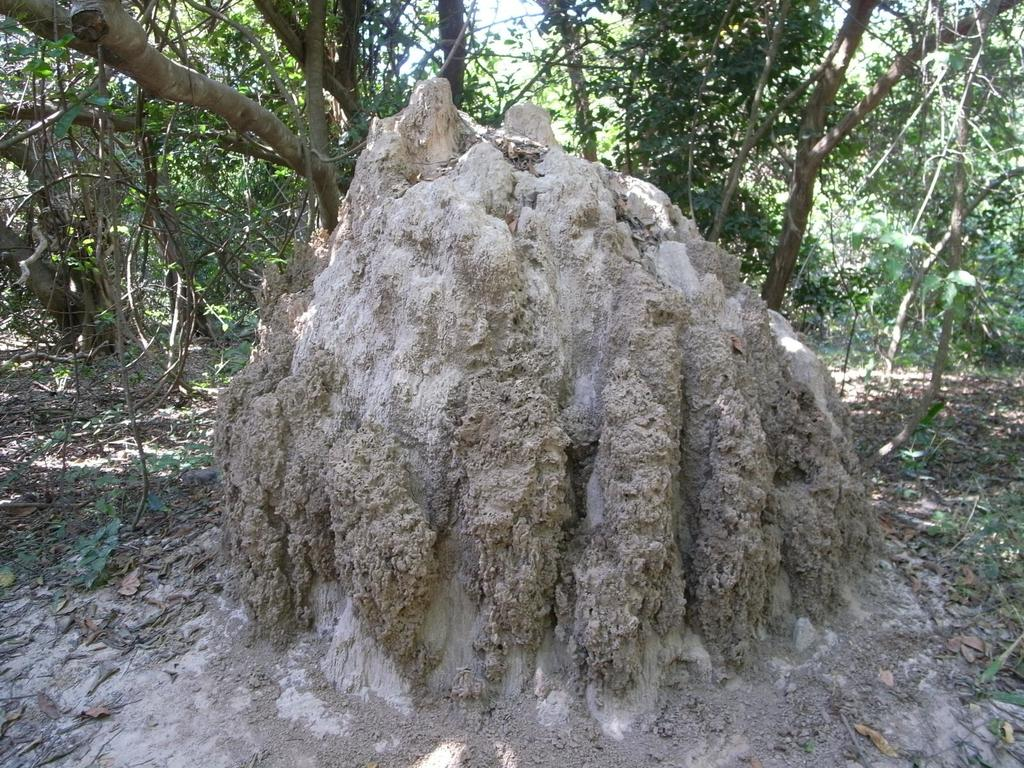Tree: (0, 0, 1024, 531)
